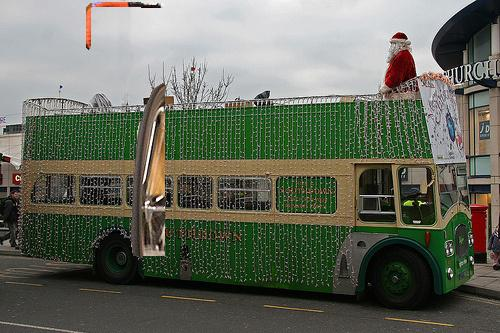tampered: (87, 3, 165, 256)
